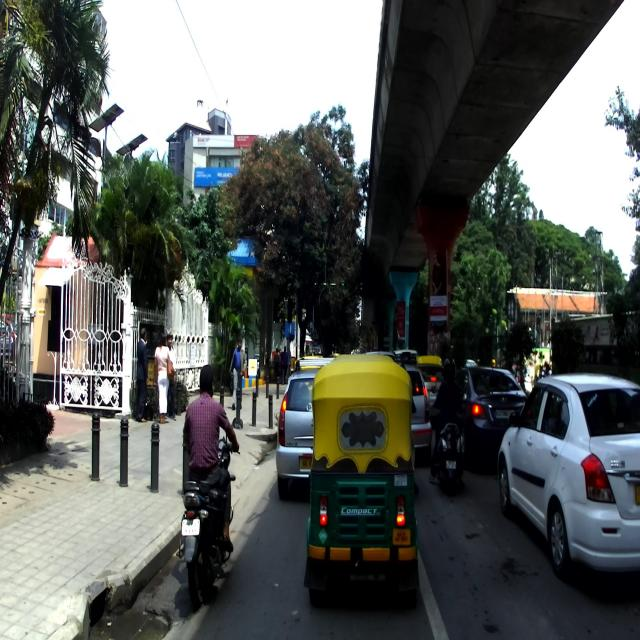Car_Hyundai: (455, 366, 527, 471)
Car_Maruti-Suzuki: (497, 370, 640, 581)
Car_TATA: (275, 358, 334, 501), (400, 359, 432, 464)
autorickshaw: (303, 354, 420, 610)
bus: (549, 312, 639, 373)
motorcycle_bajaj: (176, 420, 240, 610)
scooter: (430, 383, 465, 496)
